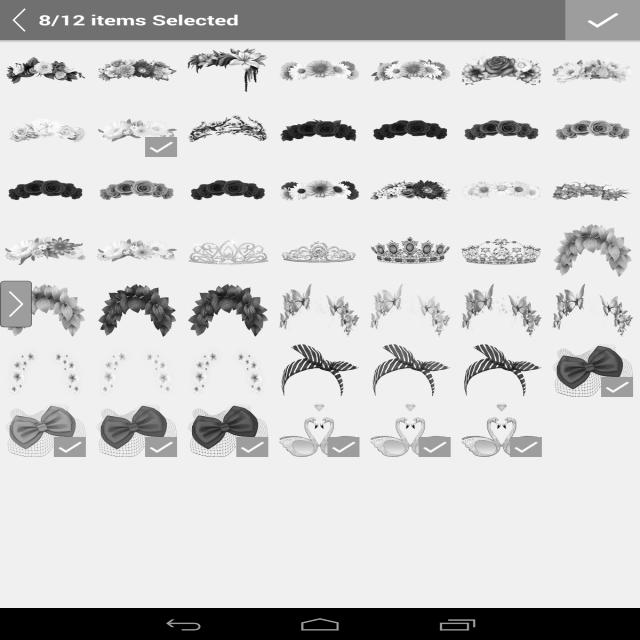Button: (0, 570, 96, 608), (96, 570, 192, 608), (192, 570, 288, 608), (288, 570, 384, 608), (384, 570, 480, 608), (480, 570, 576, 608), (576, 570, 640, 608)
ImageButton: (0, 0, 320, 33), (320, 0, 640, 33), (565, 0, 640, 40)
ImageView: (5, 44, 86, 97), (370, 44, 451, 97), (461, 44, 542, 97), (5, 104, 86, 157), (370, 104, 451, 157), (461, 104, 542, 157), (5, 164, 86, 217), (370, 164, 451, 217), (461, 164, 542, 217), (5, 224, 86, 277), (370, 224, 451, 277), (461, 224, 542, 277), (5, 284, 86, 337), (370, 284, 451, 337), (461, 284, 542, 337), (5, 344, 86, 397), (370, 344, 451, 397), (461, 344, 542, 397), (5, 404, 86, 457), (370, 404, 451, 457), (461, 404, 542, 457), (97, 44, 177, 97), (188, 44, 268, 97), (279, 44, 359, 97), (553, 44, 633, 97), (97, 104, 177, 157), (188, 104, 268, 157), (279, 104, 359, 157), (553, 104, 633, 157), (97, 164, 177, 217), (188, 164, 268, 217), (279, 164, 359, 217), (553, 164, 633, 217), (97, 224, 177, 277), (188, 224, 268, 277), (279, 224, 359, 277), (553, 224, 633, 277), (97, 284, 177, 337), (188, 284, 268, 337), (279, 284, 359, 337), (553, 284, 633, 337), (97, 344, 177, 397), (188, 344, 268, 397), (279, 344, 359, 397), (553, 344, 633, 397), (97, 404, 177, 457), (188, 404, 268, 457), (279, 404, 359, 457), (0, 281, 32, 327), (145, 137, 177, 157)
SeekBar: (55, 526, 629, 547)
TextView: (0, 0, 239, 40), (11, 530, 55, 543)
